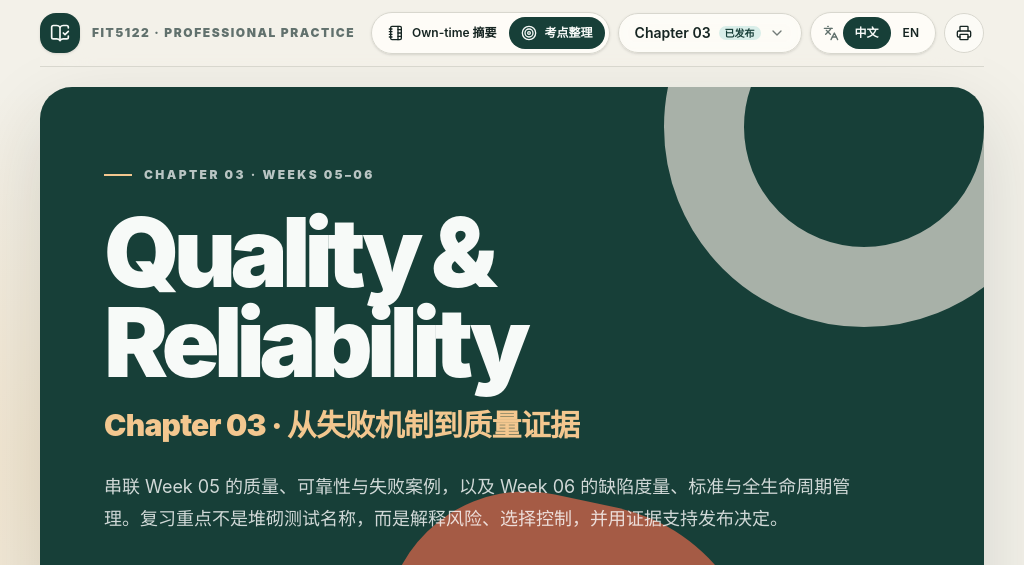
Scenario: study hub routes › switches Chapter 03 content and practice from Chinese to English
Click the button "EN": {"x": 911, "y": 33} [891,17,931,49]
(page scrolled)
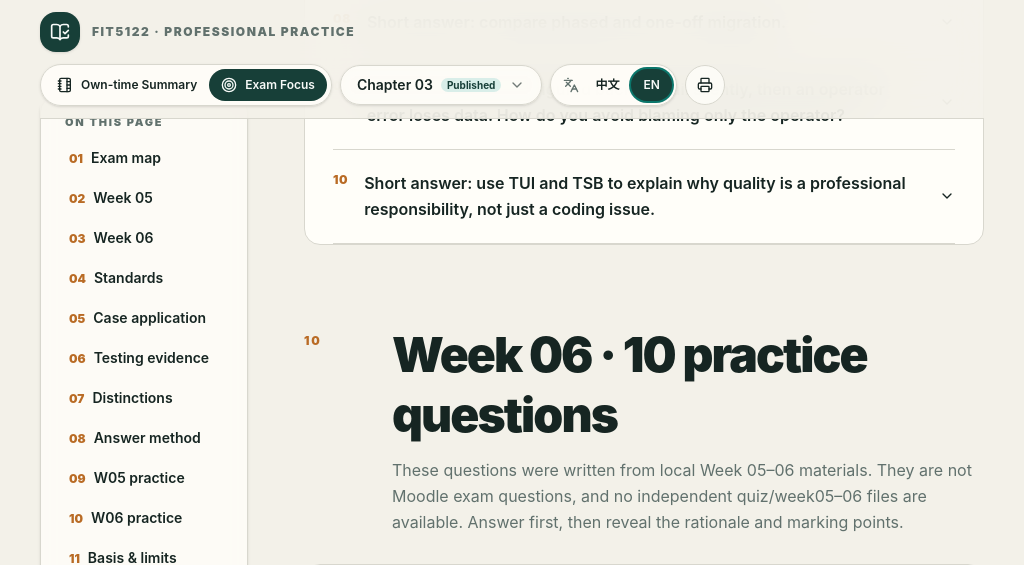
Check: the heading "Week 06 · 10 practice questions" is shown, box [392,325,867,444]
